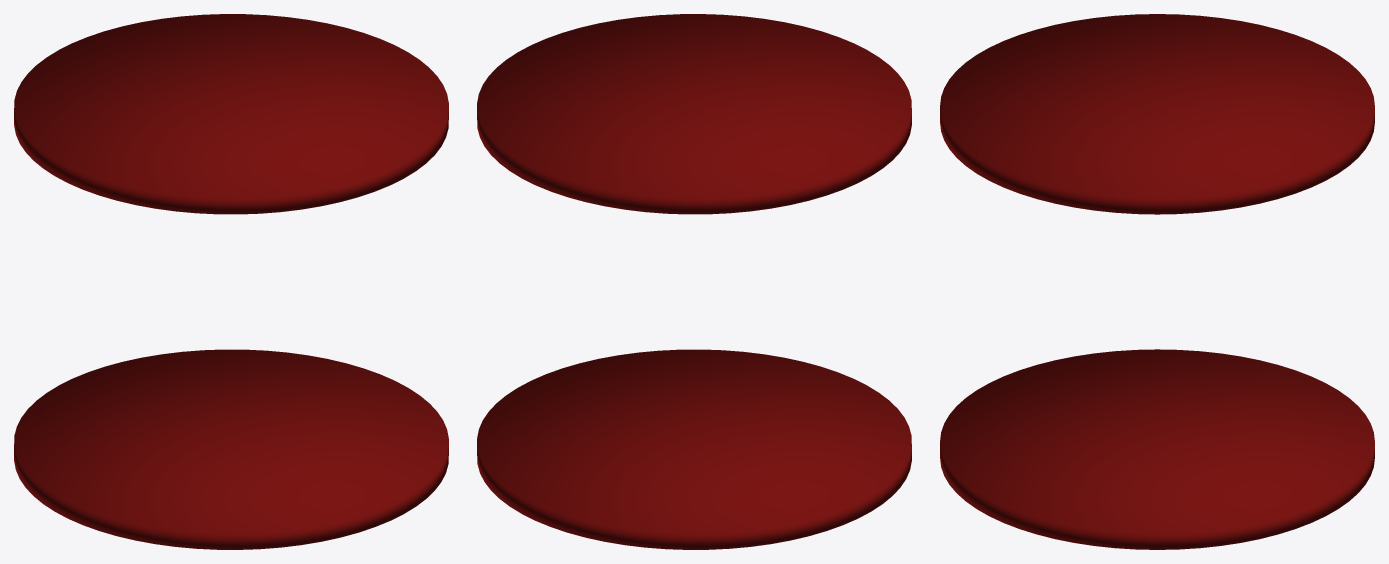
The model's file is front_left_wheel_red.obj.
3 renders of one model, left to right at view 1: azimuth 30°, elevation 25°; view 2: azimuth 150°, elevation 25°; view 3: azimuth 270°, elevation 25°, orthographic.
Size of the model in its own units: 0.094 by 0.084 by 0.094.
